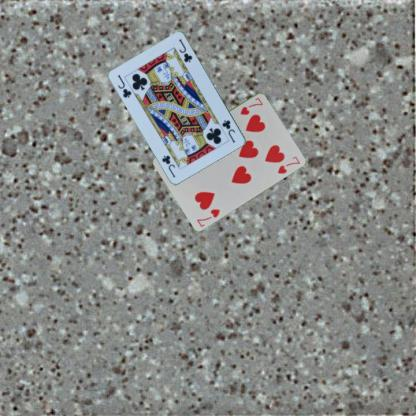7h: (194, 206, 221, 228), (238, 95, 264, 116)
Jc: (115, 72, 133, 100), (219, 117, 237, 144)
